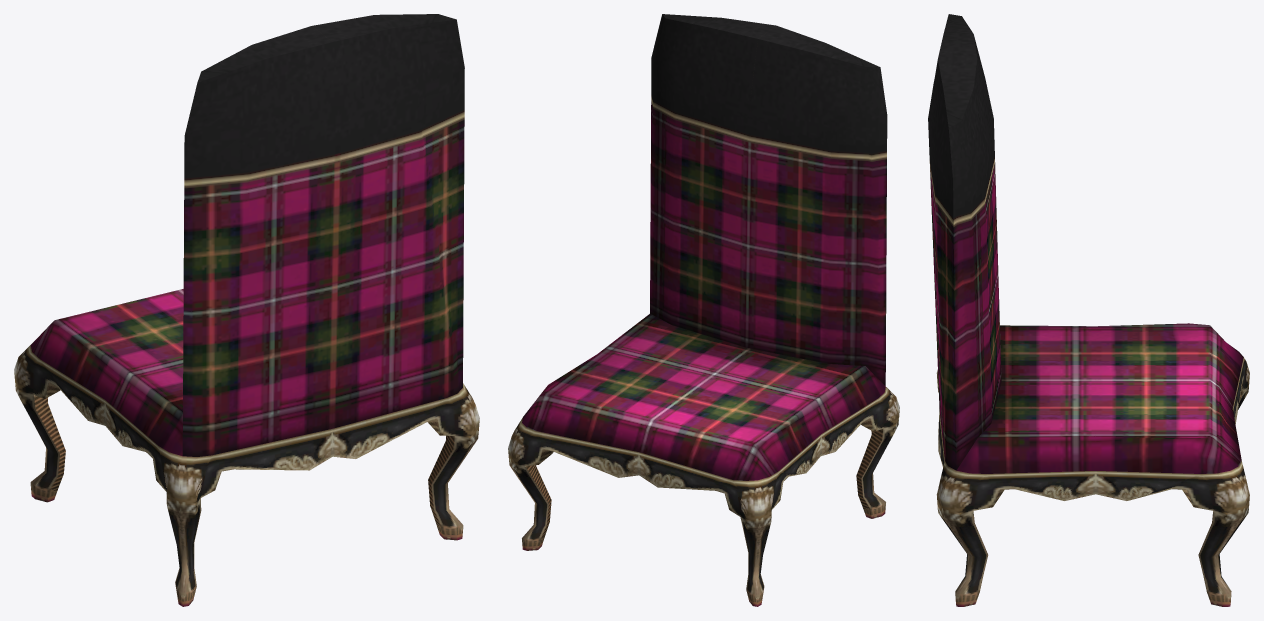
File: furni_0200314_01.FBX
3 renders of one model, left to right at view 1: azimuth 30°, elevation 25°; view 2: azimuth 150°, elevation 25°; view 3: azimuth 270°, elevation 25°, orthographic. The views are drawn at different scales.
Visible parts, largest first — view 1: furni_0200314_01; view 2: furni_0200314_01; view 3: furni_0200314_01.
Boxes of the visible parts, x1,y1,x2,y2 form: furni_0200314_01: (14, 14, 479, 606); furni_0200314_01: (508, 14, 899, 606); furni_0200314_01: (928, 14, 1249, 606).
Bounding box in the file's own units: 80.4 × 134 × 80.29.
